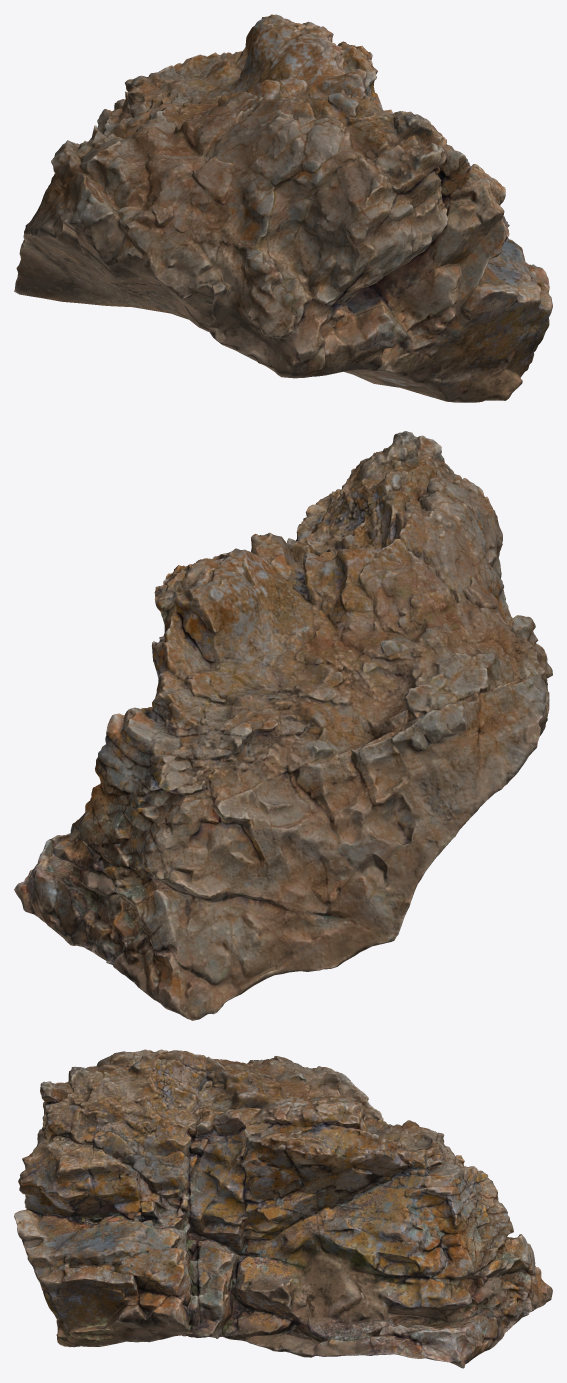
File: boulder_01_1k.gltf
3 views of the same model, one above another, from view 1: azimuth 30°, elevation 25°; view 2: azimuth 150°, elevation 25°; view 3: azimuth 270°, elevation 25° (orthographic). The views are drawn at different scales.
Visible parts, largest first — view 1: boulder_01; view 2: boulder_01; view 3: boulder_01.
Boxes of the visible parts, <box> form: boulder_01: <box>14,14,552,402</box>; boulder_01: <box>14,431,552,1020</box>; boulder_01: <box>14,1049,552,1368</box>.
Size of the model in its own units: 1.27 by 1 by 1.83.
1 material, 1 textured.
